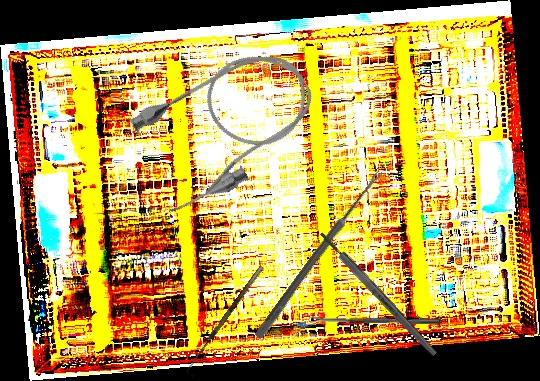Cannula: (118, 30, 334, 223)
Hook Surgical: (183, 265, 270, 377)
Scalpel Handle: (317, 229, 439, 359)
Surgical Spoon: (254, 167, 384, 341), (308, 315, 442, 325)
